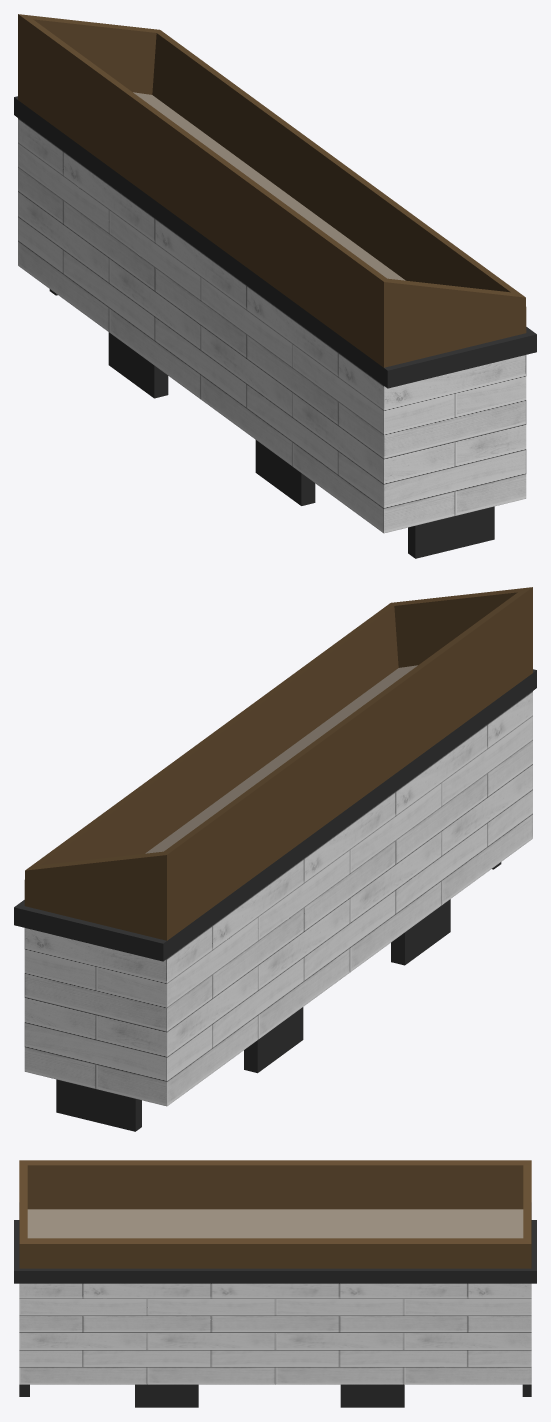
The model's file is Cajon-Frutas_Largo.FBX.
3 renders of one model, top to bottom at view 1: azimuth 30°, elevation 25°; view 2: azimuth 150°, elevation 25°; view 3: azimuth 270°, elevation 25°, orthographic. The views are drawn at different scales.
Visible parts, largest first — view 1: Caja frutas; view 2: Caja frutas; view 3: Caja frutas.
Part boxes in pixels (x1=…): Caja frutas: x1=14, y1=14, x2=536, y2=558; Caja frutas: x1=14, y1=587, x2=536, y2=1131; Caja frutas: x1=14, y1=1160, x2=536, y2=1407.
Bounding box in the file's own units: 94.3 × 409 × 172.
